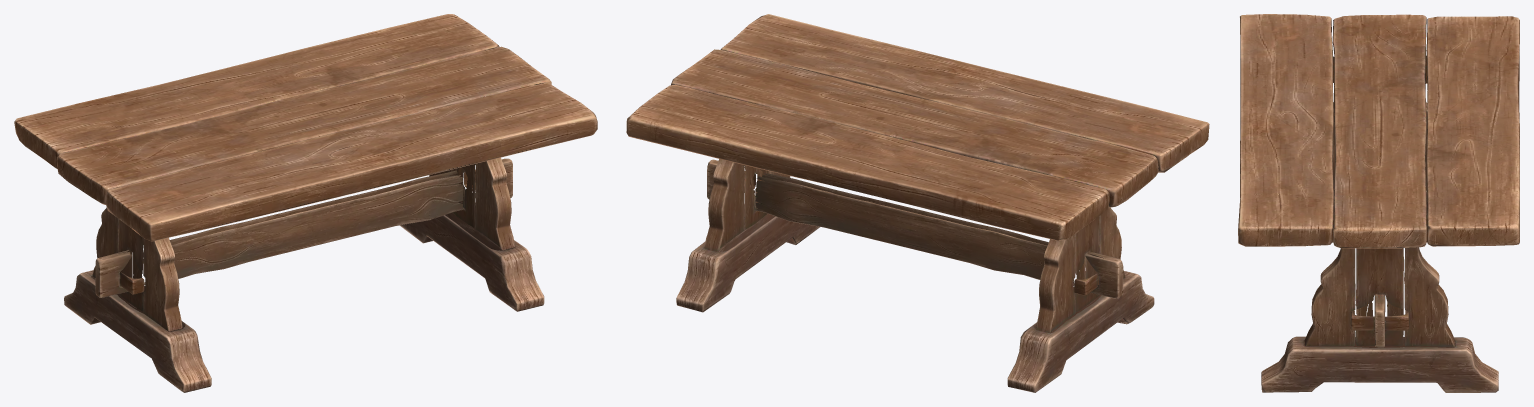
3 views of the same model, side by side, from view 1: azimuth 30°, elevation 25°; view 2: azimuth 150°, elevation 25°; view 3: azimuth 270°, elevation 25° (orthographic).
Parts seen in each view (by area): view 1: SM_Wooden_Table_02v2_LOD0; view 2: SM_Wooden_Table_02v2_LOD0; view 3: SM_Wooden_Table_02v2_LOD0.
Part boxes in pixels (box(x1,y1,x2,y2)): SM_Wooden_Table_02v2_LOD0: box(14, 14, 597, 392); SM_Wooden_Table_02v2_LOD0: box(626, 14, 1209, 392); SM_Wooden_Table_02v2_LOD0: box(1238, 14, 1519, 392).
Bounding box in the file's own units: 2.23 × 0.8925 × 1.23.
1 material, 1 textured.
